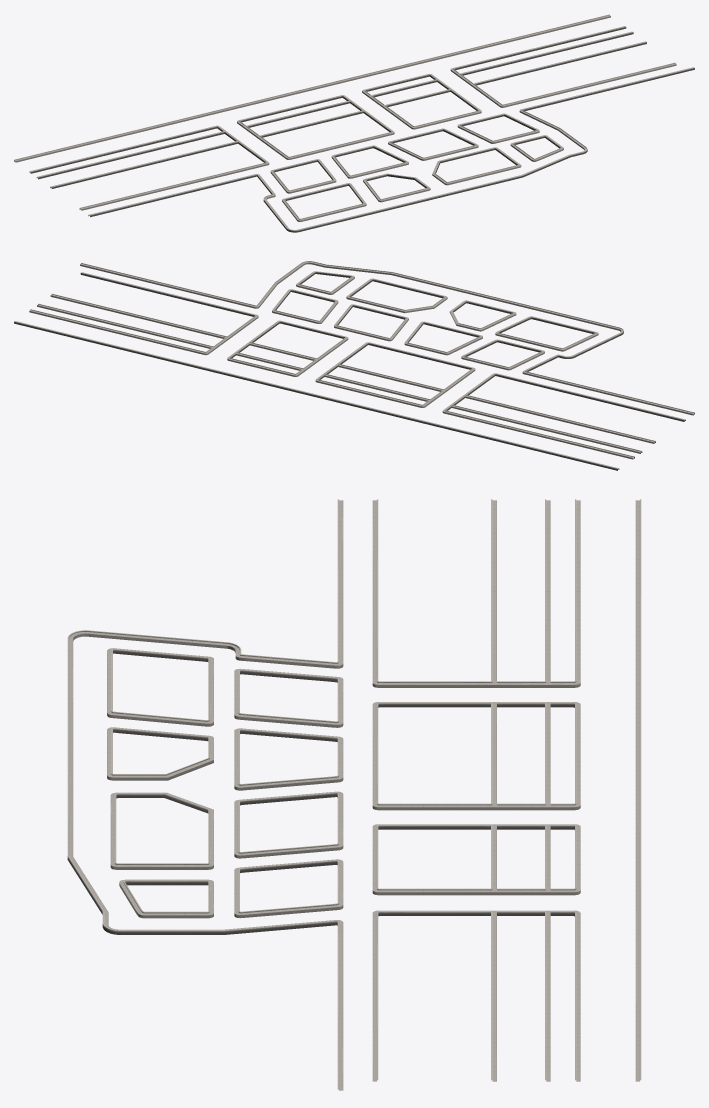
File: map_01_01.fbx
3 renders of one model, top to bottom at view 1: azimuth 30°, elevation 25°; view 2: azimuth 150°, elevation 25°; view 3: azimuth 270°, elevation 25°, orthographic. The views are drawn at different scales.
Visible parts, largest first — view 1: pCylinder301, pCylinder303, pCylinder249, pCylinder299, pCylinder252, pCylinder253, pCylinder250, pCylinder295, pCylinder300, pCylinder297, pCylinder319, pCylinder302 (+3 smaller); view 2: pCylinder301, pCylinder303, pCylinder253, pCylinder250, pCylinder252, pCylinder297, pCylinder300, pCylinder295, pCylinder319, pCylinder302, pCylinder249, pCylinder299 (+4 smaller); view 3: pCylinder301, pCylinder303, pCylinder249, pCylinder299, pCylinder319, pCylinder302, pCylinder252, pCylinder253, pCylinder250, pCylinder300, pCylinder297, pCylinder295 (+1 smaller).
Boxes of the visible parts, box(x1,y1,x2,y2) form: pCylinder301: box(14, 14, 610, 162); pCylinder303: box(298, 175, 522, 231); pCylinder249: box(79, 163, 265, 210); pCylinder299: box(505, 62, 676, 106); pCylinder252: box(36, 132, 222, 179); pCylinder253: box(29, 126, 214, 173); pCylinder250: box(50, 142, 235, 188); pCylinder295: box(462, 31, 633, 75); pCylinder300: box(476, 41, 646, 85); pCylinder297: box(455, 26, 626, 69); pCylinder319: box(524, 67, 694, 110); pCylinder302: box(88, 174, 254, 217); pCylinder301: box(14, 321, 619, 470); pCylinder303: box(391, 272, 619, 330); pCylinder253: box(446, 411, 634, 459); pCylinder250: box(467, 395, 655, 443); pCylinder252: box(454, 405, 642, 453); pCylinder297: box(29, 309, 202, 354); pCylinder300: box(50, 293, 224, 338); pCylinder295: box(37, 303, 210, 348); pCylinder319: box(80, 263, 253, 307); pCylinder302: box(526, 372, 694, 415); pCylinder249: box(498, 374, 685, 421); pCylinder299: box(80, 272, 253, 316); pCylinder301: box(635, 499, 641, 1081); pCylinder303: box(67, 637, 73, 856); pCylinder249: box(372, 499, 378, 679); pCylinder299: box(372, 914, 378, 1081); pCylinder319: box(337, 923, 343, 1090); pCylinder302: box(337, 499, 343, 660); pCylinder252: box(545, 499, 550, 679); pCylinder253: box(575, 499, 580, 679); pCylinder250: box(491, 499, 496, 679); pCylinder300: box(491, 914, 496, 1081); pCylinder297: box(575, 914, 580, 1081); pCylinder295: box(545, 914, 550, 1081).
Size of the model in its own units: 1383 by 4.57 by 568.
